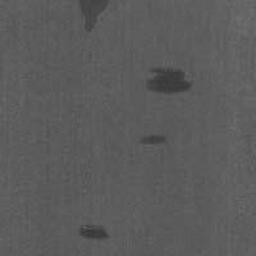Oil spot: (145, 65, 195, 96), (78, 0, 111, 35), (77, 221, 113, 242), (137, 133, 169, 146)
